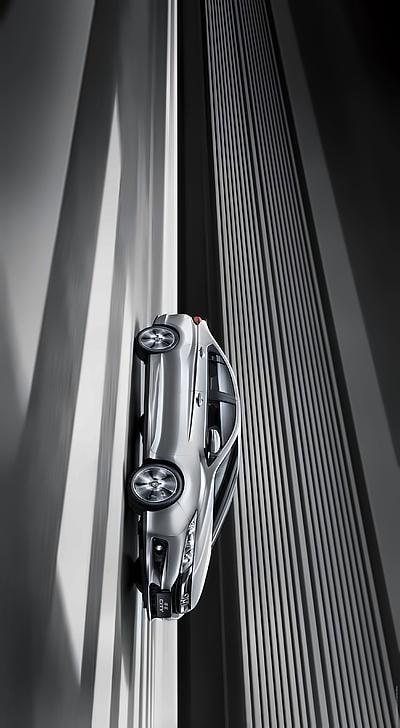Car hood: (191, 474, 212, 614)
Driver-s door - -F-R-: (148, 385, 239, 466)
Fender - -F-R-: (139, 449, 223, 517)
Fender - -R-R-: (152, 322, 228, 367)
Front bumper: (138, 499, 203, 625)
Headlight - -R-: (180, 508, 198, 576)
Passenger-s door - -R-R-: (146, 343, 241, 392)
Rear bumper: (152, 310, 199, 338)
Rear light - -R-: (192, 312, 204, 329)
Side bumper - -R-: (144, 350, 168, 461)
Side mirror - -R-: (204, 426, 222, 459)
